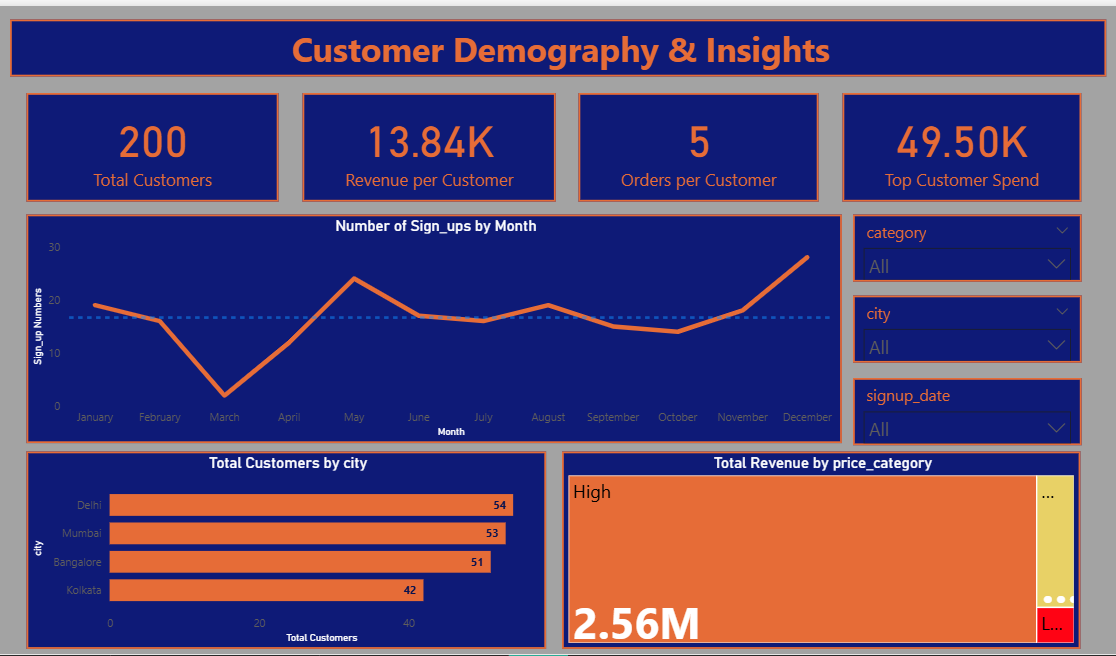

This screenshot's page, from the dashboard's own definition file:
{"tool":"powerbi","page":{"name":"Customers Insight","canvas":[1280,720],"ordinal":1},"visuals":[{"type":"card","fields":{"Values":["Measures_Table.Total Customers"]},"box":[48.8,96,279.8,120.4],"z":0},{"type":"card","title":"Avg Revenue/Customer","fields":{"Values":["Measures_Table.Revenue per Customer"]},"box":[354.6,96,281.4,120.4],"z":1000},{"type":"card","fields":{"Values":["Measures_Table.Orders per Customer"]},"box":[662,96,266.8,120.4],"z":2000},{"type":"card","fields":{"Values":["Measures_Table.Top Customer Spend"]},"box":[954.8,96,265.1,120.4],"z":3000},{"type":"textbox","box":[29.3,14.6,1218.3,63.4],"z":4000},{"type":"slicer","fields":{"Values":["products_clean.category"]},"box":[966.2,231,253.7,74.8],"z":5000},{"type":"slicer","fields":{"Values":["customers.city"]},"box":[966.2,322.1,253.7,74.8],"z":6000},{"type":"slicer","fields":{"Values":["customers.signup_date"]},"box":[966.2,413.1,253.7,74.8],"z":7000},{"type":"lineChart","title":"Number of Sign_ups by Month","fields":{"Category":["customers.signup_date.Variation.Date Hierarchy.Month"],"Y":["CountNonNull(customers.customer_id)"]},"box":[48.8,231,906,253.7],"z":8000},{"type":"clusteredBarChart","fields":{"Category":["customers.city"],"Y":["Measures_Table.Total Customers"]},"box":[48.8,494.5,577.4,219.6],"z":9000},{"type":"treemap","fields":{"Group":["products_clean.price_category"],"Values":["Measures_Table.Total Revenue"]},"box":[644.1,494.5,575.8,219.6],"z":10000}]}

Visuals, with their boxes on the page's 1280x720 design canvas (x1, y1, x2, y2). These are canvas units, not pixel positions in the 1116x656 screenshot, which may show the page scaled, cropped or inside an application window:
card - Measures_Table.Total Customers: 49 96 329 216
"Avg Revenue/Customer" card: 355 96 636 216
card - Measures_Table.Orders per Customer: 662 96 929 216
card - Measures_Table.Top Customer Spend: 955 96 1220 216
textbox: 29 15 1248 78
slicer - products_clean.category: 966 231 1220 306
slicer - customers.city: 966 322 1220 397
slicer - customers.signup_date: 966 413 1220 488
"Number of Sign_ups by Month" lineChart: 49 231 955 485
clusteredBarChart - customers.city x Measures_Table.Total Customers: 49 494 626 714
treemap - products_clean.price_category x Measures_Table.Total Revenue: 644 494 1220 714
